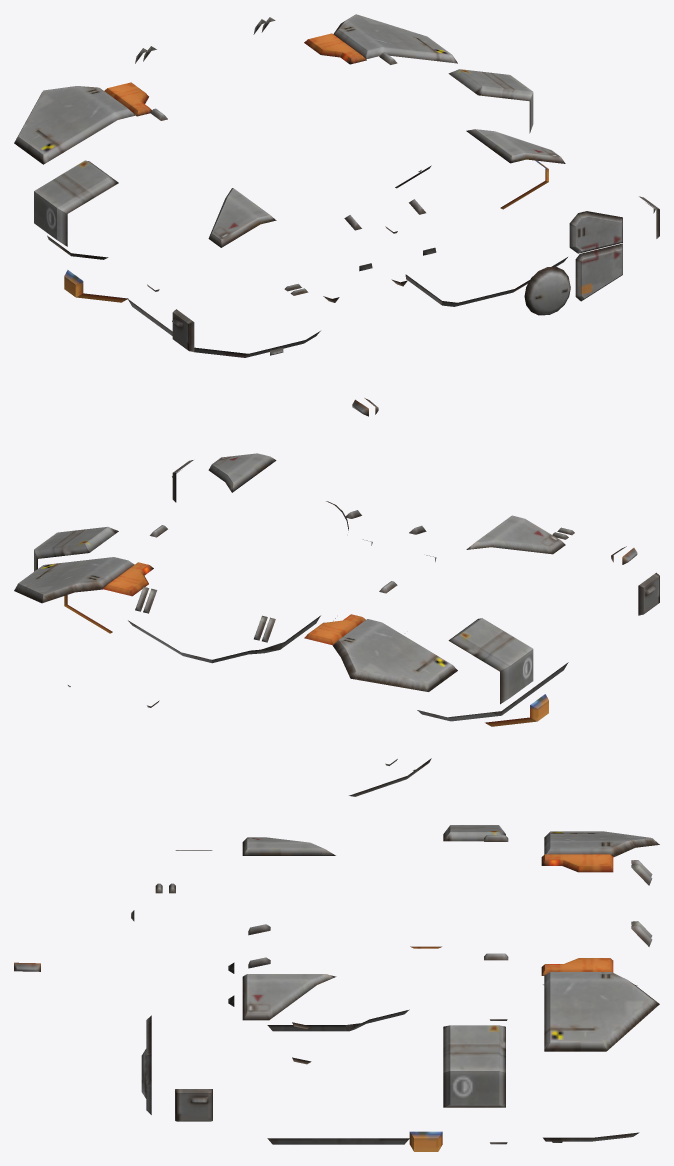
File: hgn_pf_defe_01_t1.glb
3 renders of one model, top to bottom at view 1: azimuth 30°, elevation 25°; view 2: azimuth 150°, elevation 25°; view 3: azimuth 270°, elevation 25°, orthographic. The views are drawn at different scales.
Parts seen in each view (by area): view 1: hgn_turret_plattform_01_LOD0; view 2: hgn_turret_plattform_01_LOD0; view 3: hgn_turret_plattform_01_LOD0.
Part boxes in pixels (bbox=[...]): hgn_turret_plattform_01_LOD0: bbox=[14, 14, 659, 416]; hgn_turret_plattform_01_LOD0: bbox=[14, 453, 659, 796]; hgn_turret_plattform_01_LOD0: bbox=[14, 825, 659, 1151].
Size of what is drawn, in the model's own units: 1.27 by 0.4548 by 1.41.
1 material, 1 textured.
